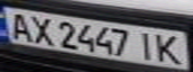2: (51, 18, 78, 51)
4: (90, 24, 115, 56), (75, 21, 96, 53)
7: (112, 26, 133, 57)
A: (3, 9, 36, 42)
I: (133, 29, 160, 62)
K: (151, 32, 187, 65)
X: (27, 13, 57, 46)
